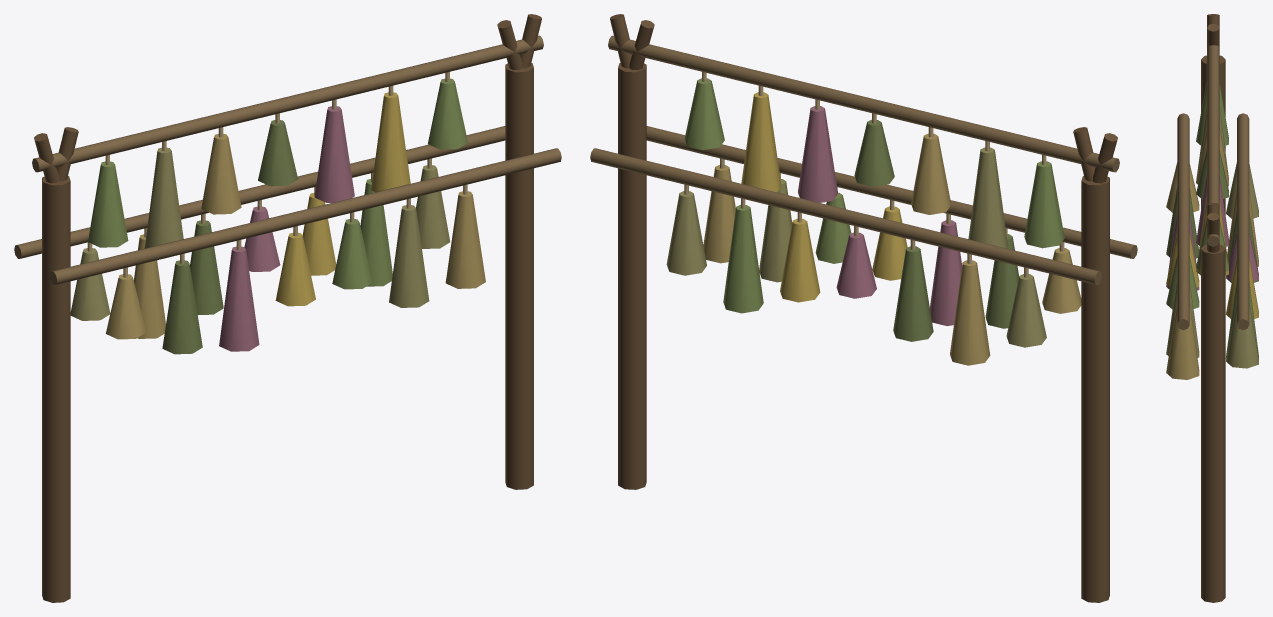
The model's file is sushka.glb.
3 views of the same model, side by side, from view 1: azimuth 30°, elevation 25°; view 2: azimuth 150°, elevation 25°; view 3: azimuth 270°, elevation 25° (orthographic). The views are drawn at different scales.
Parts seen in each view (by area): view 1: bundle (×21), post (×2), rail (×3); view 2: bundle (×21), post (×2), rail (×3); view 3: bundle (×21), post (×2), rail (×3), fork (×2).
Boxes of the visible parts, box(x1,y1,x2,y2) form: bundle (×21): box(70, 78, 485, 354); post (×2): box(42, 63, 533, 602); rail (×3): box(14, 35, 561, 284); bundle (×21): box(666, 78, 1081, 365); post (×2): box(618, 63, 1109, 602); rail (×3): box(590, 35, 1137, 284); bundle (×21): box(1166, 80, 1258, 379); post (×2): box(1201, 55, 1225, 602); rail (×3): box(1177, 45, 1249, 329); fork (×2): box(1207, 23, 1219, 252).
Bounding box in the file's own units: 1.97 × 1.73 × 0.3731.
